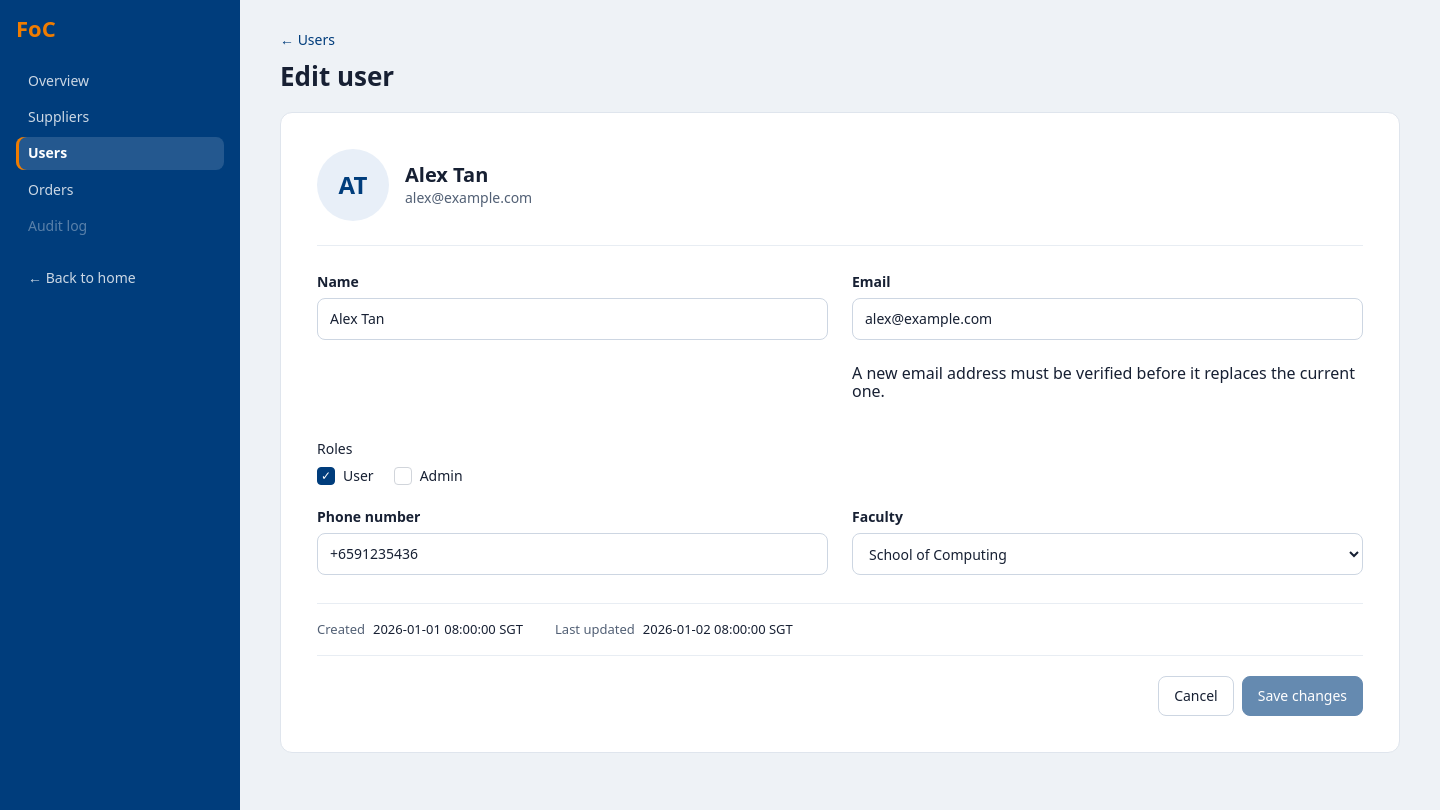
Test: can discard edited fields when leaving the page
Replace the text in the field labelled "Name" with "Unsaved name" at (572, 319), box [317,298,828,340]
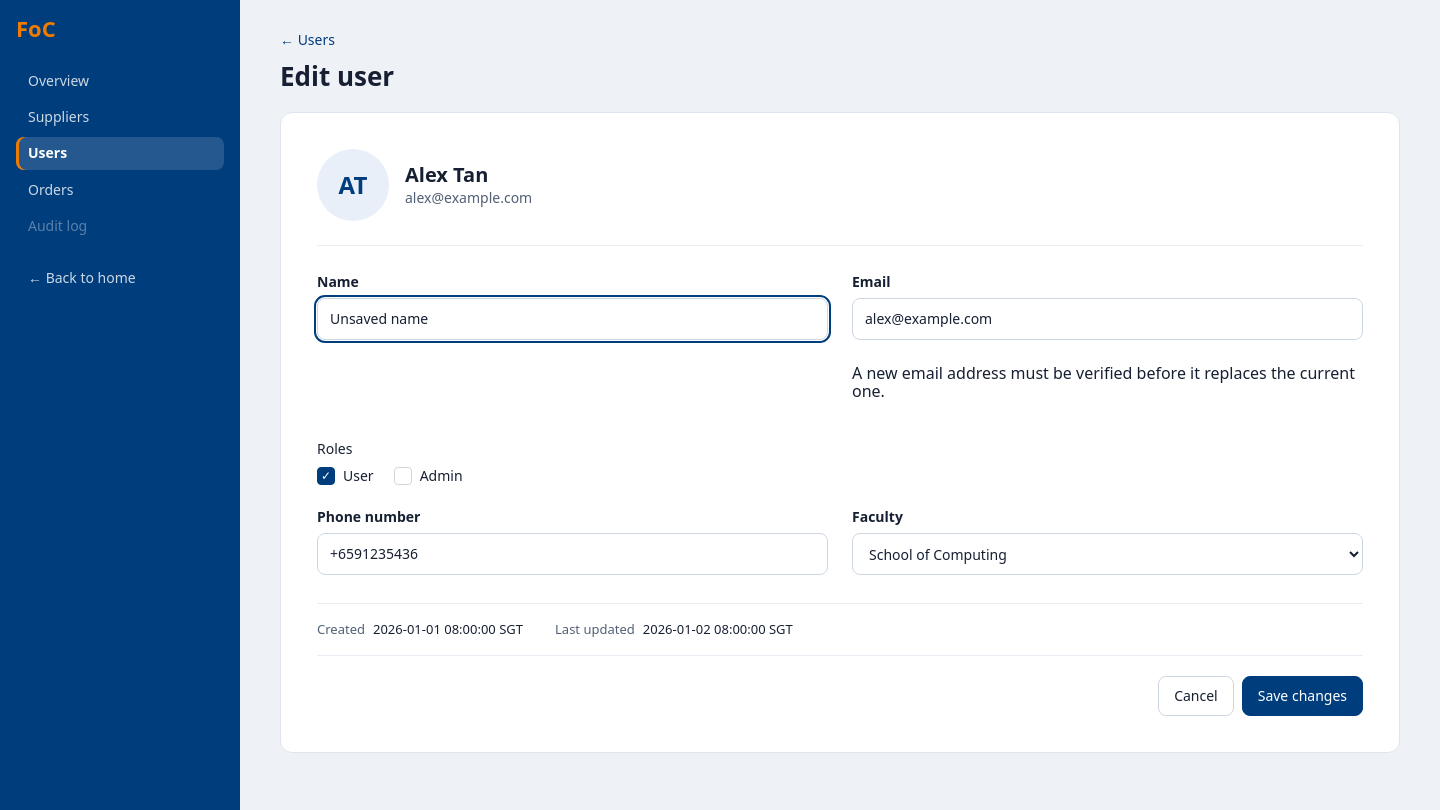
Click the link "Users" at (120, 154), box [16,138,224,170]
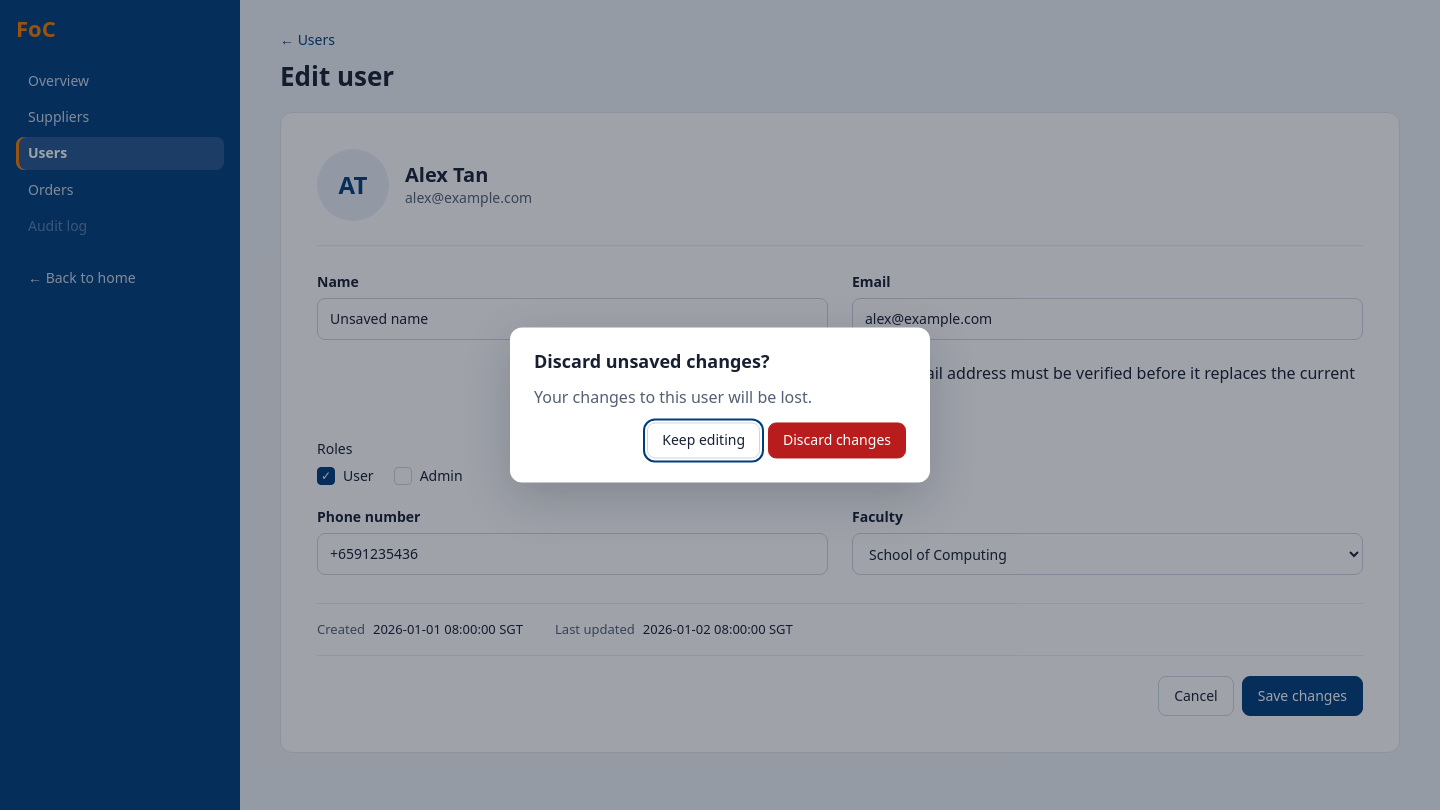
Click the button "Discard changes" at (837, 440), box [768,422,906,458]
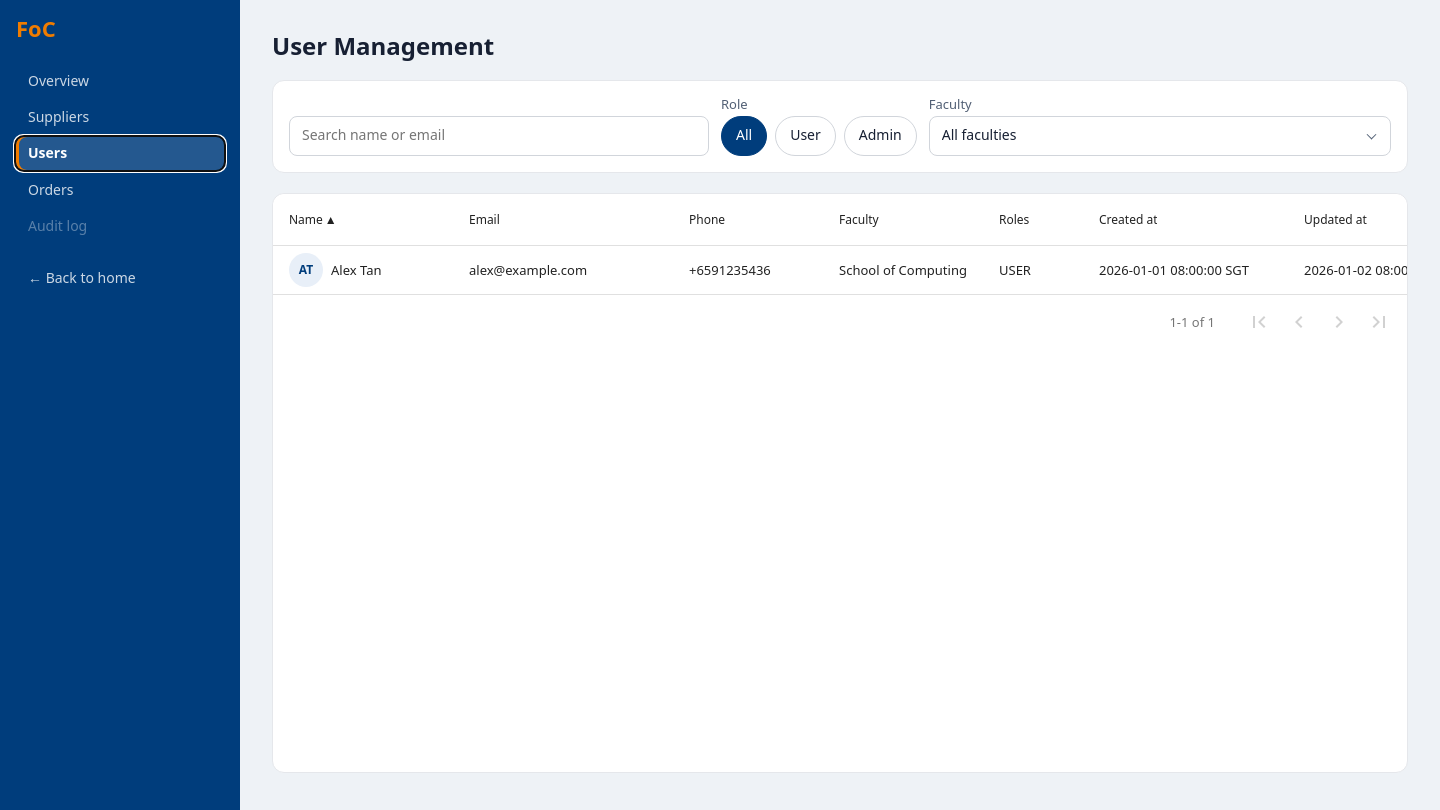
Result: the heading "User Management" is shown at [272,32,494,60]
